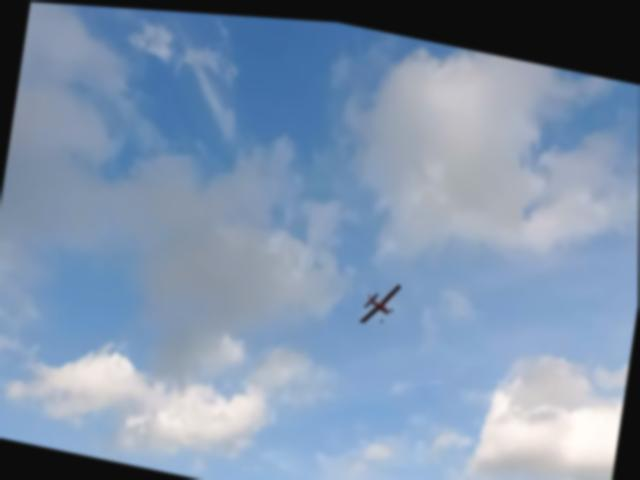plane: (360, 272, 404, 325)
